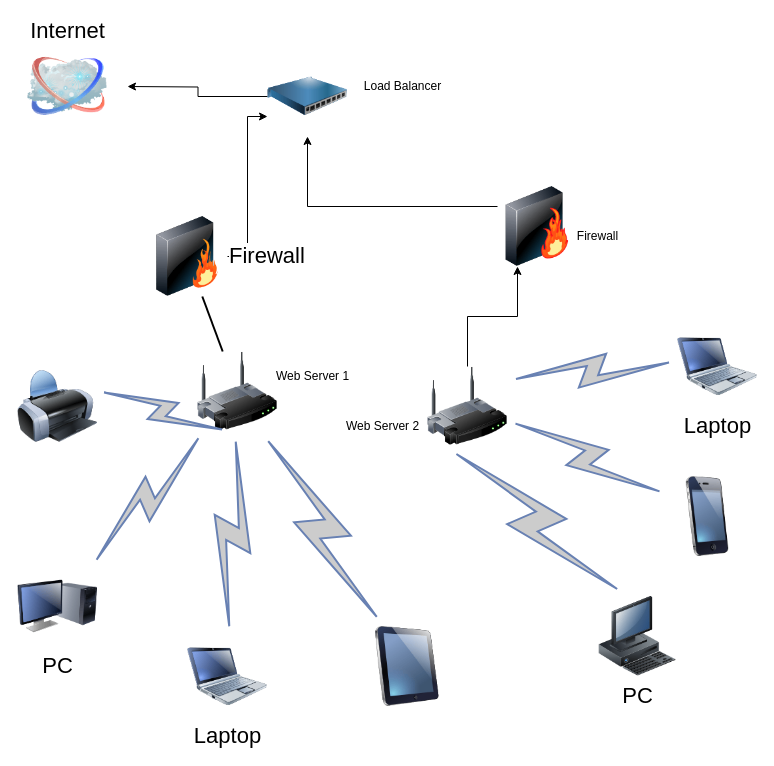
Some shapes in this 774 by 766 pixel diagram are drawn without their labels. Each missing label, with the centre of its shape:
"Mobile" goes at pixel 707 516.
"Printer" goes at pixel 57 406.
"Tablet" goes at pixel 407 666.
